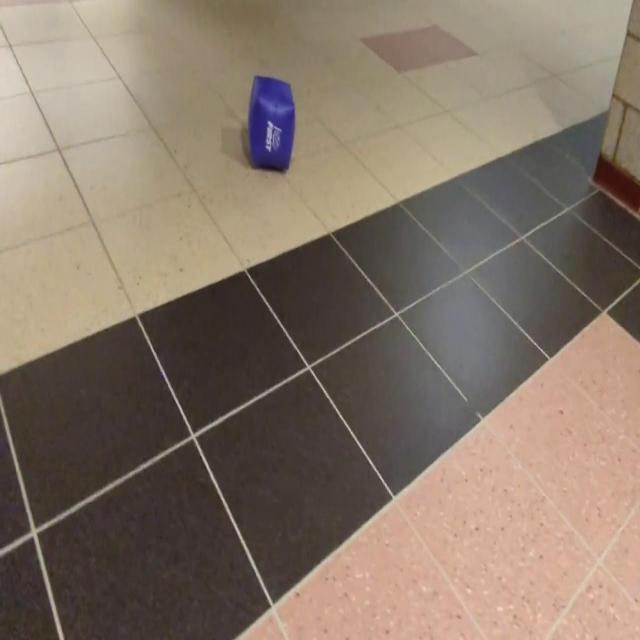frc_cube: (246, 76, 296, 164)
